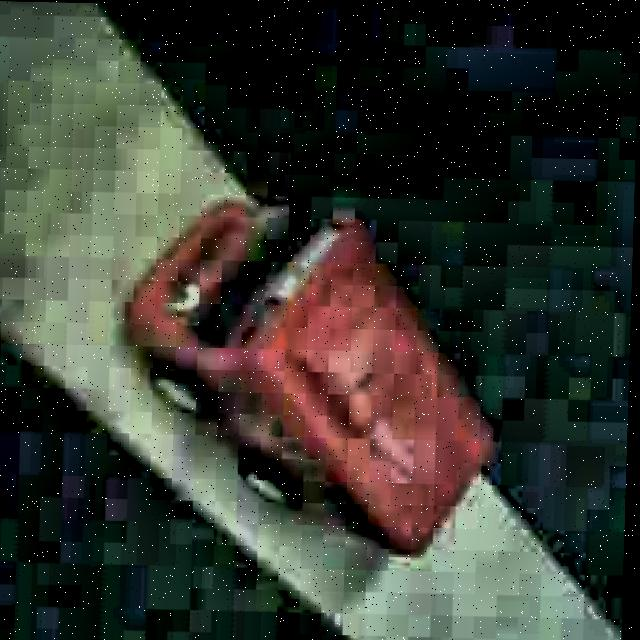bus: (118, 198, 504, 557)
